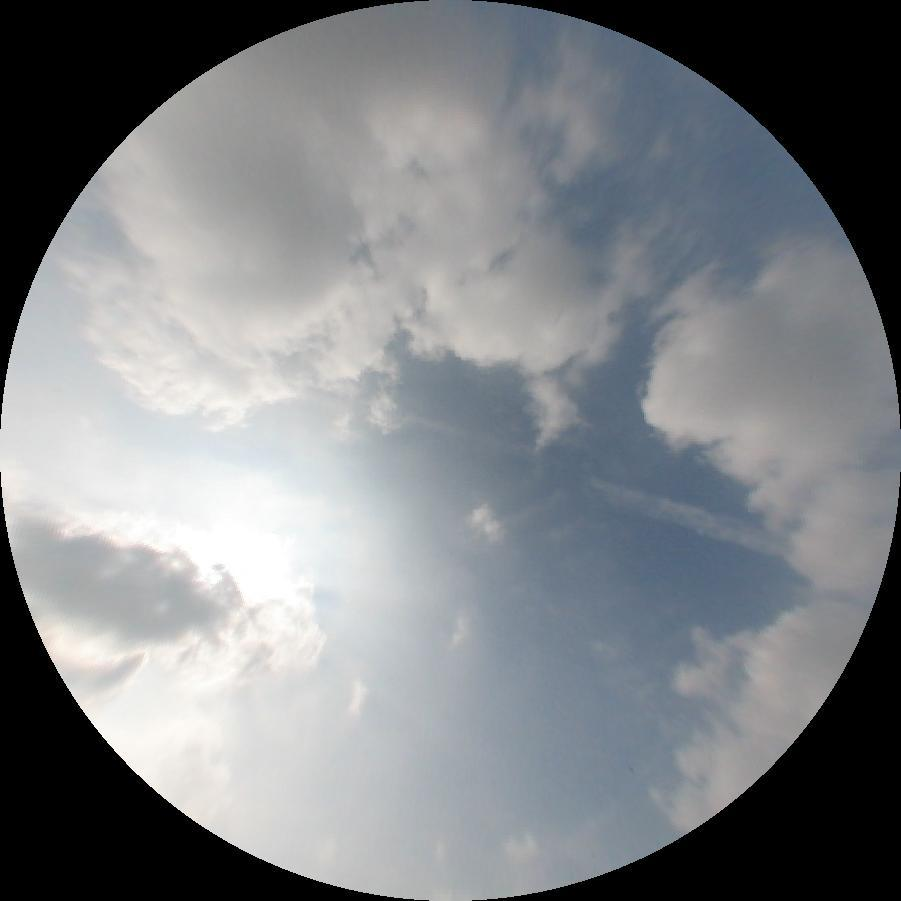contrail veryold: (587, 478, 792, 559)
sun: (163, 494, 324, 623)
